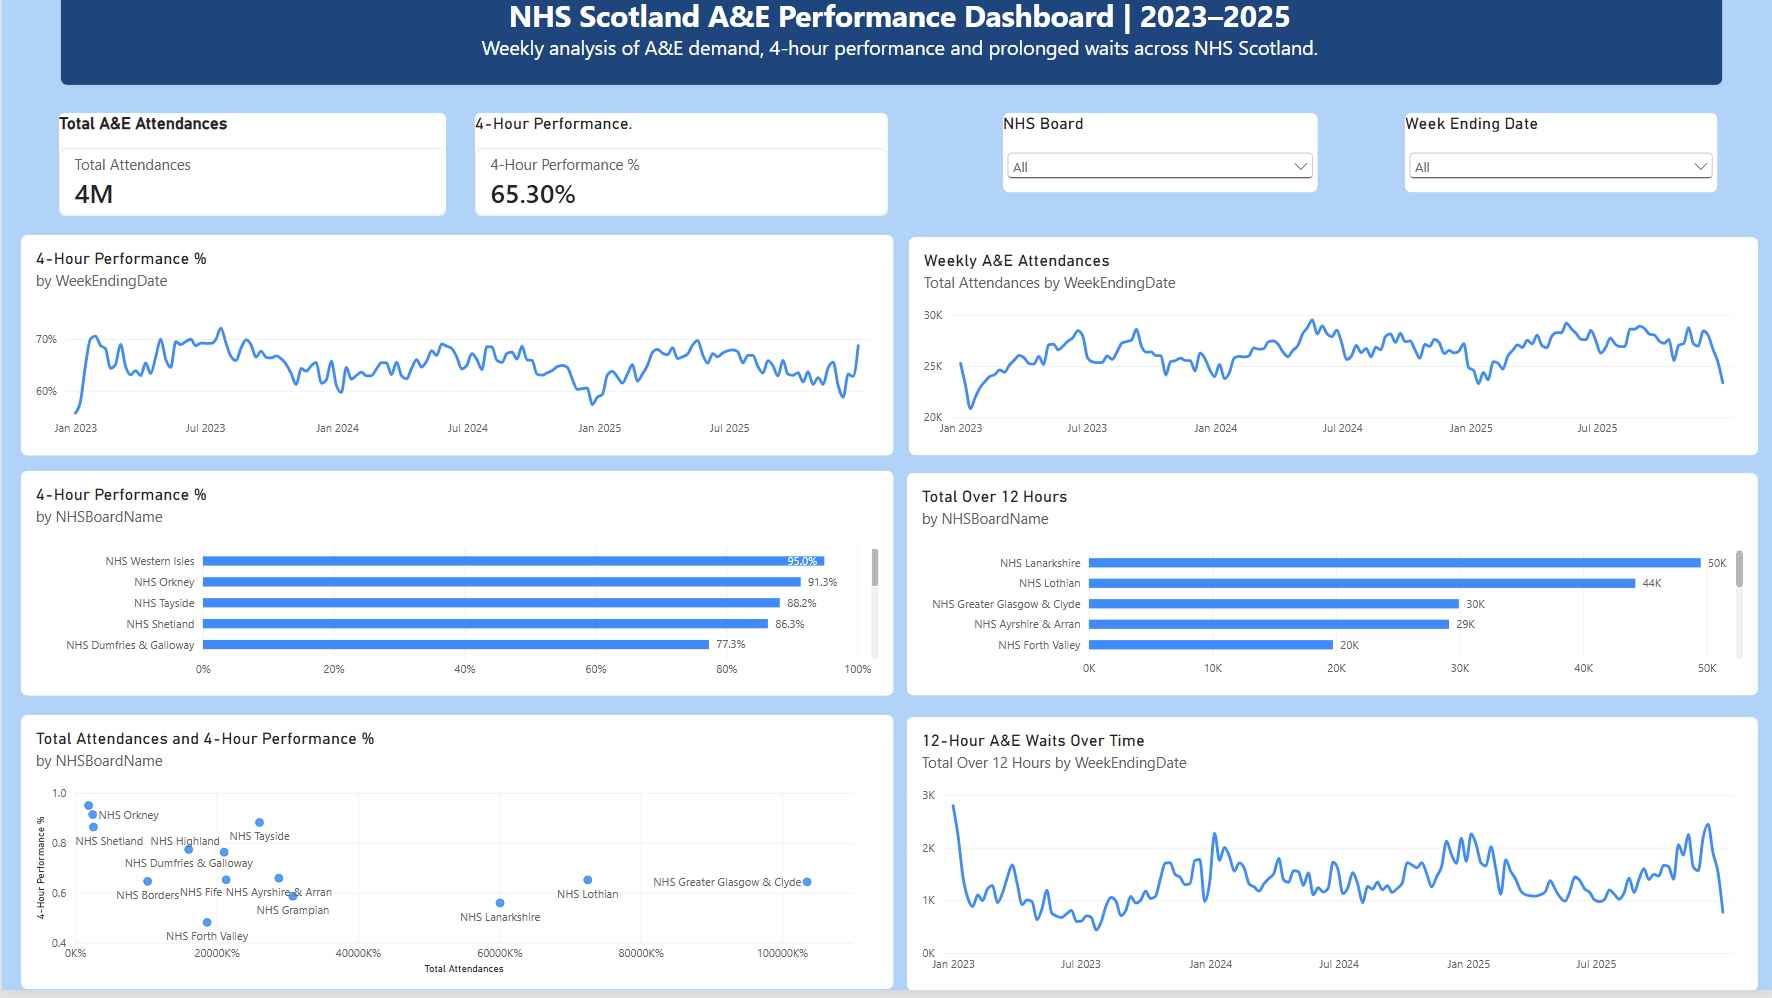

Layout of this report page (visuals, bound fields, positions):
{"tool":"powerbi","page":{"name":"Page 1","canvas":[1920,1080],"ordinal":0},"visuals":[{"type":"cardVisual","title":"    Total A&E Attendances","fields":{"Data":["ae_scotland_2023_2025.Total Attendances"]},"box":[60.2,127.4,421.5,113.5],"z":0},{"type":"cardVisual","title":"    4-Hour Performance.","fields":{"Data":["ae_scotland_2023_2025.4-Hour Performance %"]},"box":[511.8,127.4,449.3,113.5],"z":1},{"type":"lineChart","fields":{"Category":["ae_scotland_2023_2025.WeekEndingDate"],"Y":["ae_scotland_2023_2025.4-Hour Performance %"]},"box":[18.5,259.4,947.3,240.9],"z":2},{"type":"lineChart","title":"Weekly A&E Attendances","fields":{"Category":["ae_scotland_2023_2025.WeekEndingDate"],"Y":["ae_scotland_2023_2025.Total Attendances"]},"box":[982,261.7,921.8,238.6],"z":3},{"type":"clusteredBarChart","fields":{"Category":["ae_scotland_2023_2025.NHSBoardName"],"Y":["ae_scotland_2023_2025.4-Hour Performance %"]},"box":[18.5,516.5,947.3,245.5],"z":4},{"type":"clusteredBarChart","fields":{"Category":["ae_scotland_2023_2025.NHSBoardName"],"Y":["ae_scotland_2023_2025.Total Over 12 Hours"]},"box":[979.7,518.8,924.1,243.2],"z":5},{"type":"scatterChart","fields":{"Category":["ae_scotland_2023_2025.NHSBoardName"],"X":["ae_scotland_2023_2025.Total Attendances"],"Y":["ae_scotland_2023_2025.4-Hour Performance %"]},"box":[18.5,780.5,947.3,298.8],"z":6},{"type":"lineChart","title":"12-Hour A&E Waits Over Time","fields":{"Category":["ae_scotland_2023_2025.WeekEndingDate"],"Y":["ae_scotland_2023_2025.Total Over 12 Hours"]},"box":[979.7,782.8,924.1,298.8],"z":7},{"type":"slicer","title":"NHS Board","fields":{"Values":["ae_scotland_2023_2025.NHSBoardName"]},"box":[1083.9,127.4,342.8,88],"z":8},{"type":"slicer","title":"Week Ending Date","fields":{"Values":["ae_scotland_2023_2025.WeekEndingDate"]},"box":[1519.3,127.4,340.5,88],"z":9},{"type":"textbox","box":[62.5,0,1801.9,99.6],"z":12}]}

Visuals, with their boxes in screenshot pixels (x1, y1, x2, y2), scaled from the page's 1920x1080 canvas onto the 1772x998 screenshot:
"    Total A&E Attendances" cardVisual: <region>56, 118, 445, 223</region>
"    4-Hour Performance." cardVisual: <region>472, 118, 887, 223</region>
lineChart - ae_scotland_2023_2025.WeekEndingDate x ae_scotland_2023_2025.4-Hour Performance %: <region>17, 240, 891, 462</region>
"Weekly A&E Attendances" lineChart: <region>906, 242, 1757, 462</region>
clusteredBarChart - ae_scotland_2023_2025.NHSBoardName x ae_scotland_2023_2025.4-Hour Performance %: <region>17, 477, 891, 704</region>
clusteredBarChart - ae_scotland_2023_2025.NHSBoardName x ae_scotland_2023_2025.Total Over 12 Hours: <region>904, 479, 1757, 704</region>
scatterChart - ae_scotland_2023_2025.NHSBoardName x ae_scotland_2023_2025.Total Attendances: <region>17, 721, 891, 997</region>
"12-Hour A&E Waits Over Time" lineChart: <region>904, 723, 1757, 997</region>
"NHS Board" slicer: <region>1000, 118, 1317, 199</region>
"Week Ending Date" slicer: <region>1402, 118, 1716, 199</region>
textbox: <region>58, 0, 1721, 92</region>
